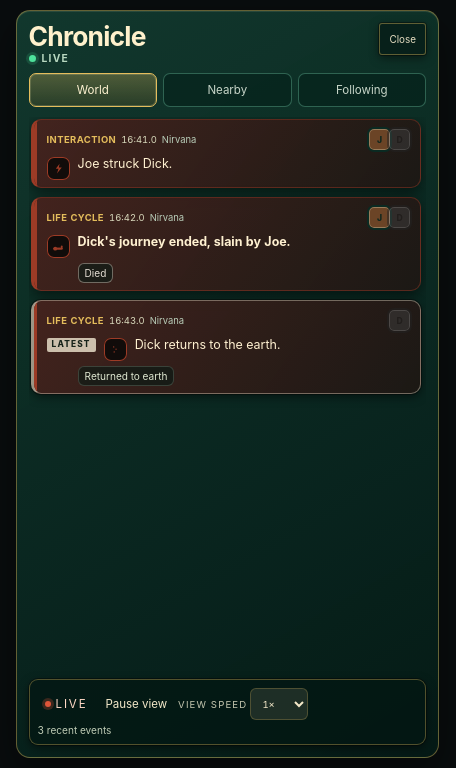
Test: ChronicleKillfeed › follows a being, and refuses honestly when they are gone
The image size is (456, 768).
Click the button "J" in the row of "16:41.0" at (380, 140), box [367,127,392,152]
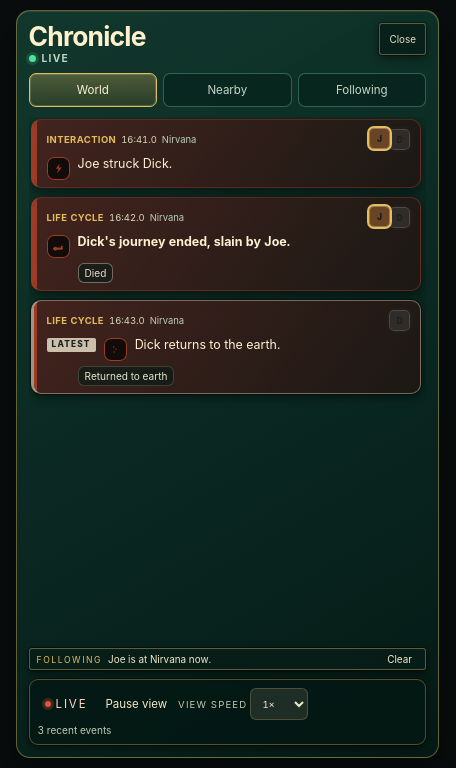
expect the element with class "chronicle-killfeed__lens" shows "Joe is at Nirvana now.": met, box [108,653,211,665]
